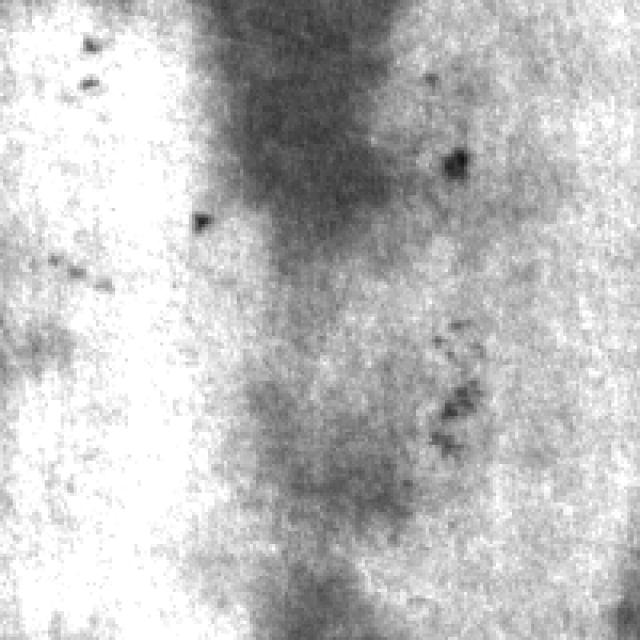patches: (176, 0, 445, 275), (211, 374, 391, 628), (409, 304, 506, 488), (378, 138, 473, 240)
